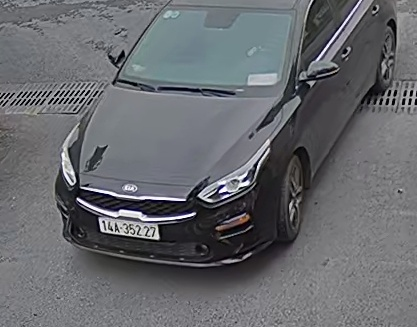vehicle plate: (97, 213, 161, 241)
